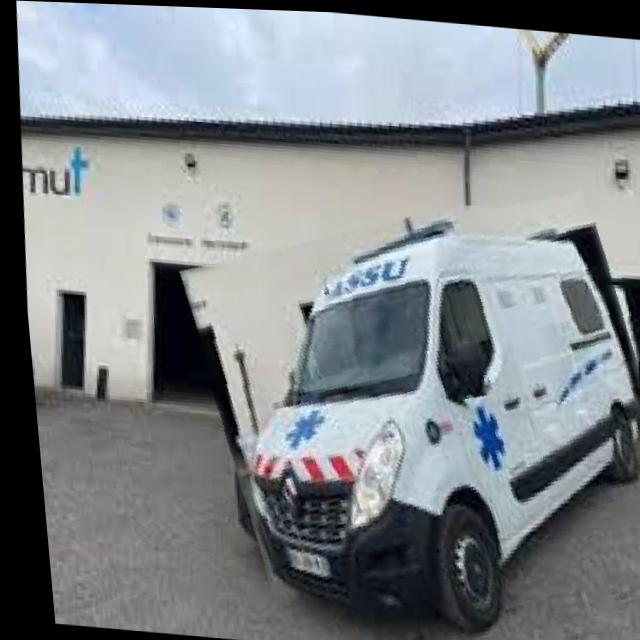ambulance: (173, 179, 640, 640)
